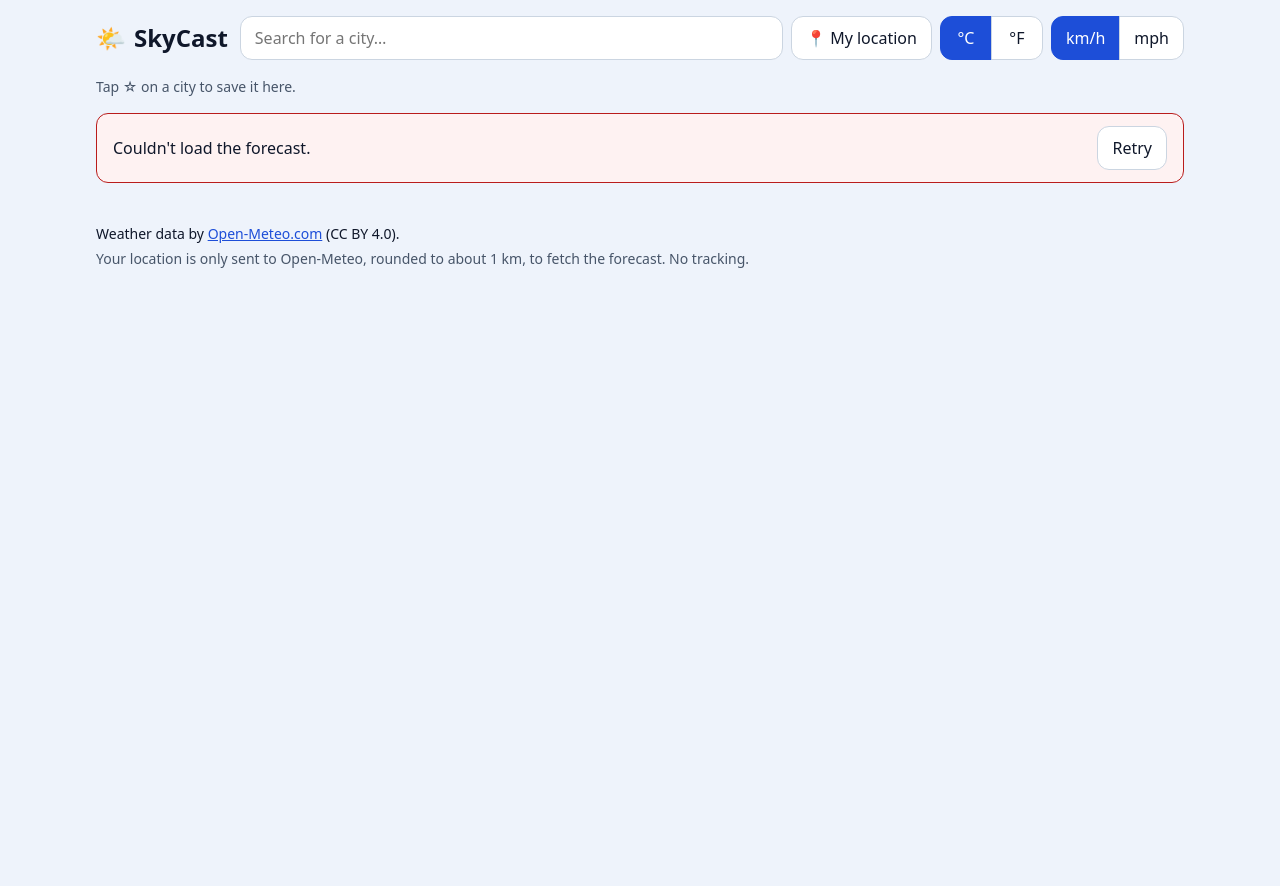
Test case: App › NFR-5 shows an error with Retry that recovers
Expected: the message shows "Couldn't load the forecast.", [113,137,310,159]
Click the button "Retry" at (1132,148), box [1098,126,1167,170]
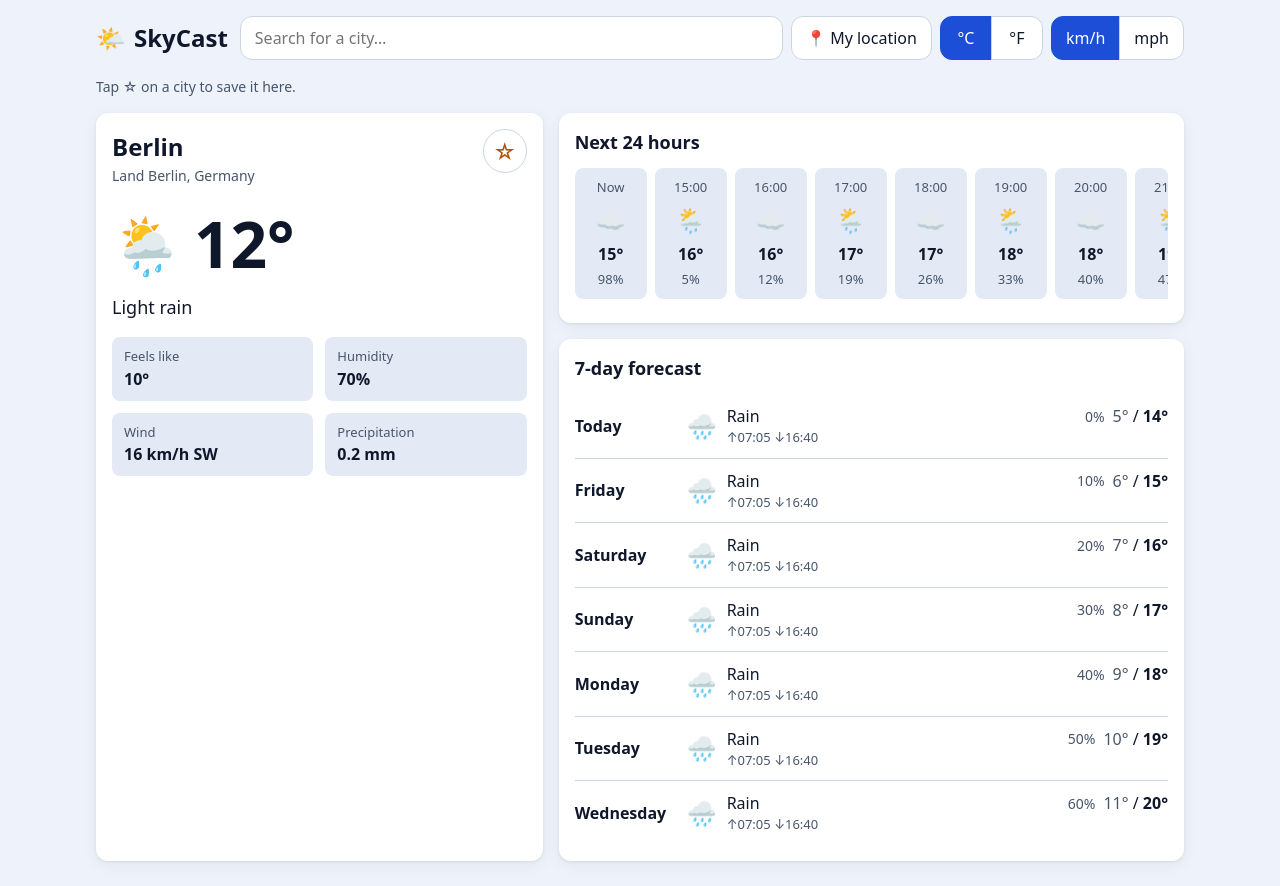
Expected: the text with test id "current-temp" reads "12°", [194,200,294,287]
Expected: the message "Couldn't load the forecast. Retry" is gone
